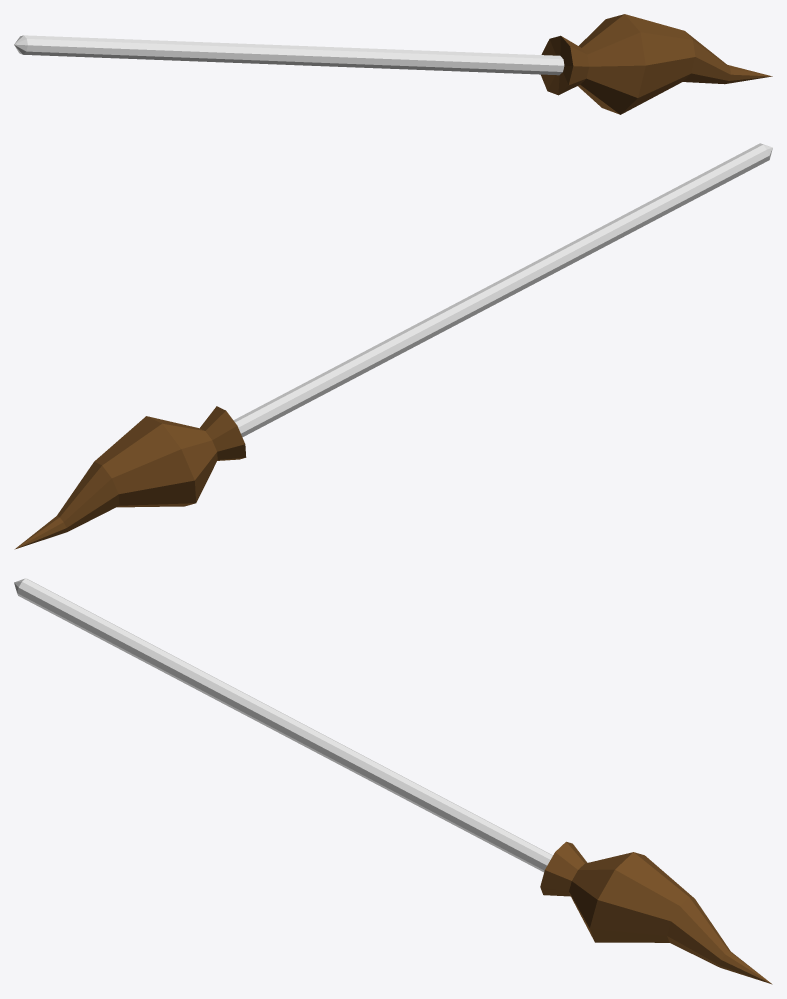
Rendered from broom.glb.
3 renders of one model, top to bottom at view 1: azimuth 30°, elevation 25°; view 2: azimuth 210°, elevation 25°; view 3: azimuth 330°, elevation 25°, orthographic.
Visible parts, largest first — view 1: Broom; view 2: Broom; view 3: Broom.
Boxes of the visible parts, x1=… form: Broom: x1=14, y1=14, x2=772, y2=114; Broom: x1=14, y1=143, x2=772, y2=549; Broom: x1=14, y1=578, x2=772, y2=984.
Size of the model in its own units: 2.78 by 0.7815 by 0.3157.
